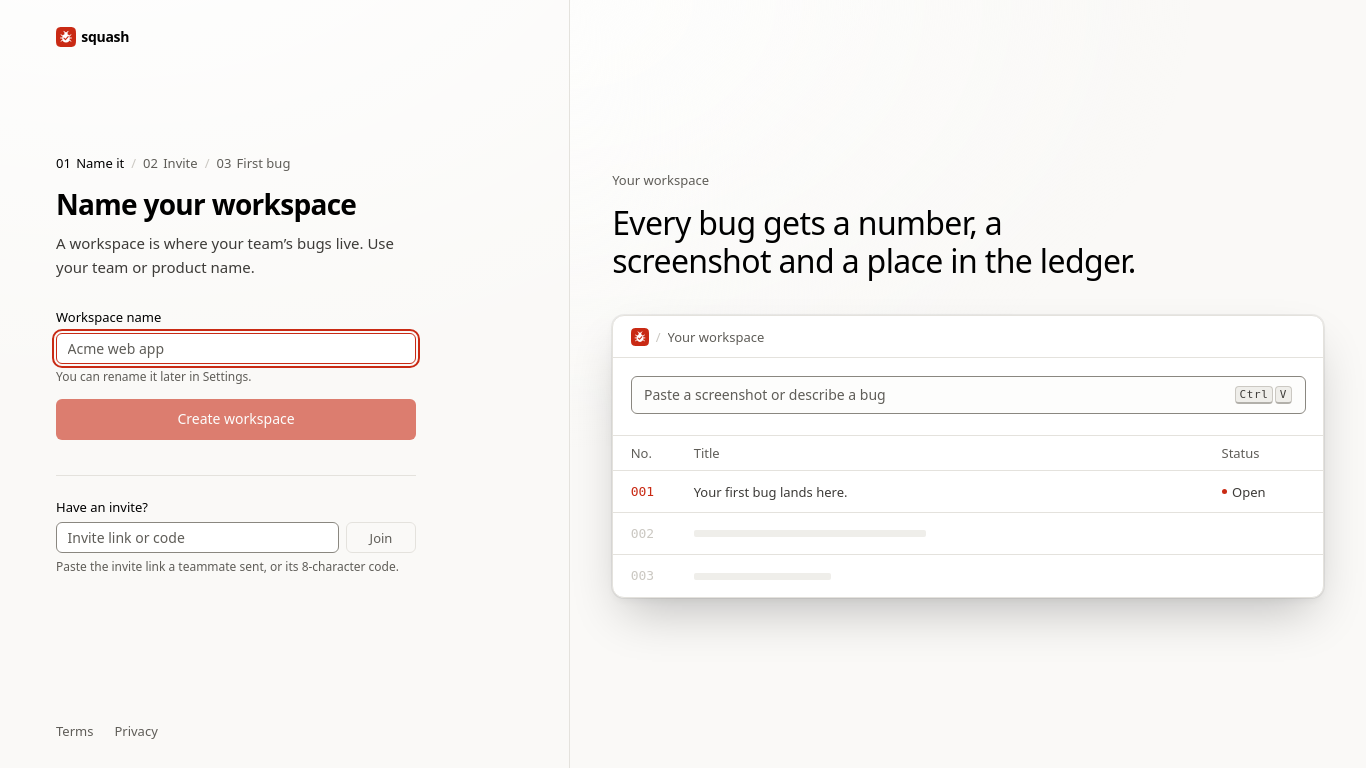
Scenario: Onboarding › shows an invite-code error on the invite field only
Type "abcd2345" into the field named "Invite code". click: (198, 538)
box: [56,522,339,553]
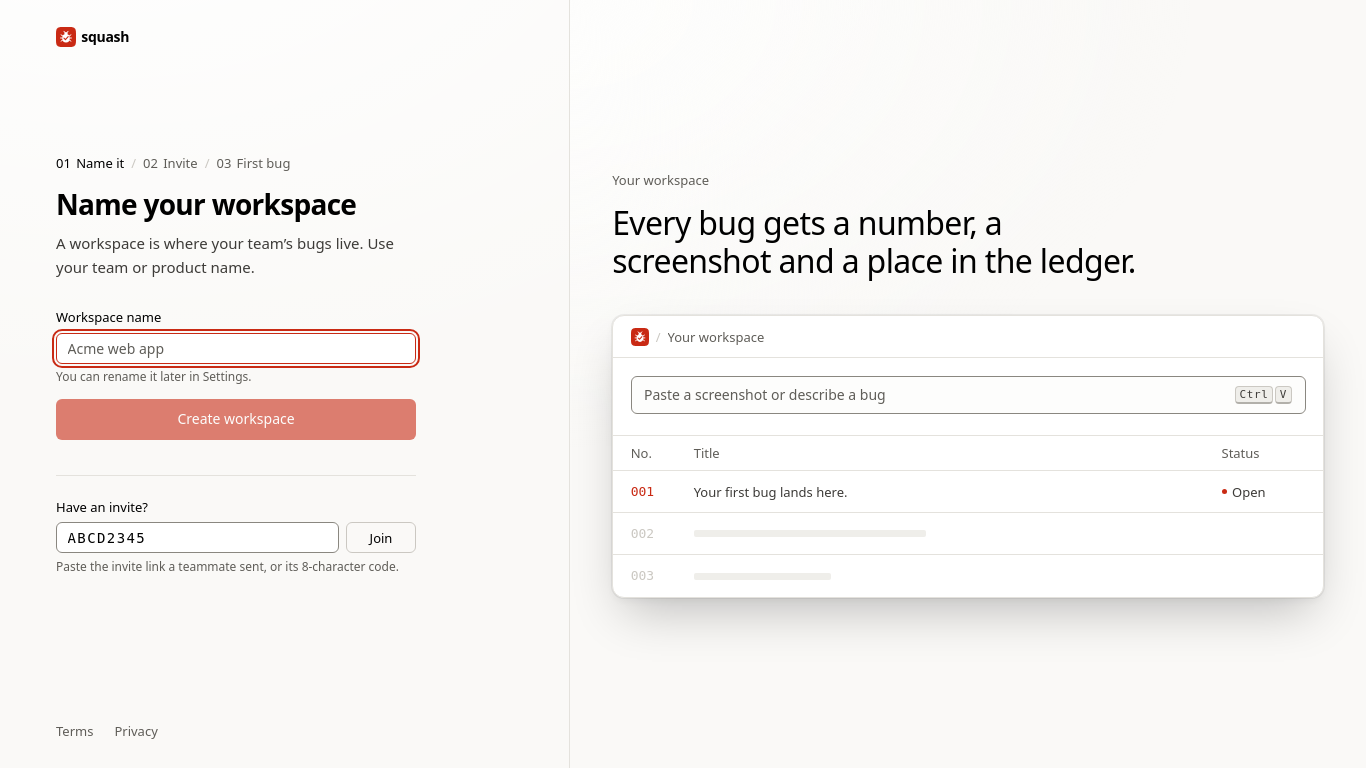
Click the button "Join". click: (381, 538)
box: [346,522,416,553]
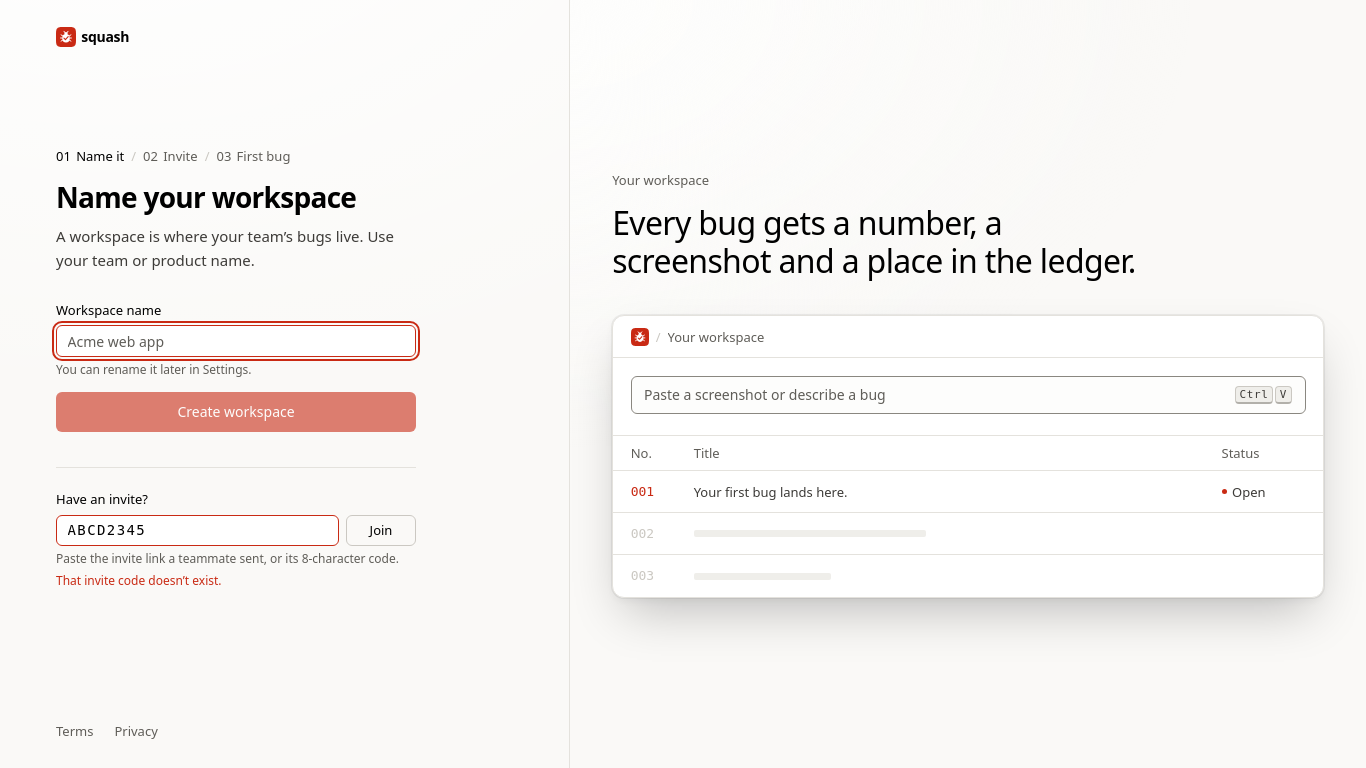
Expected: the message reads "That invite code doesn’t exist.", [56,572,222,589]
